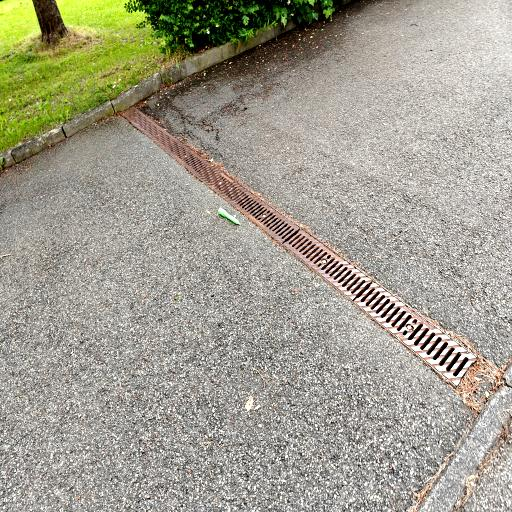Probe-Detection: (218, 208, 240, 225)
